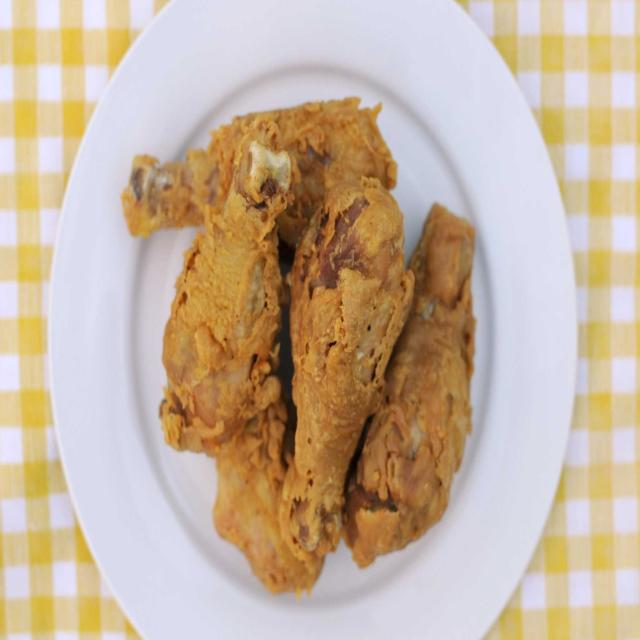Frango: (124, 86, 484, 601)
